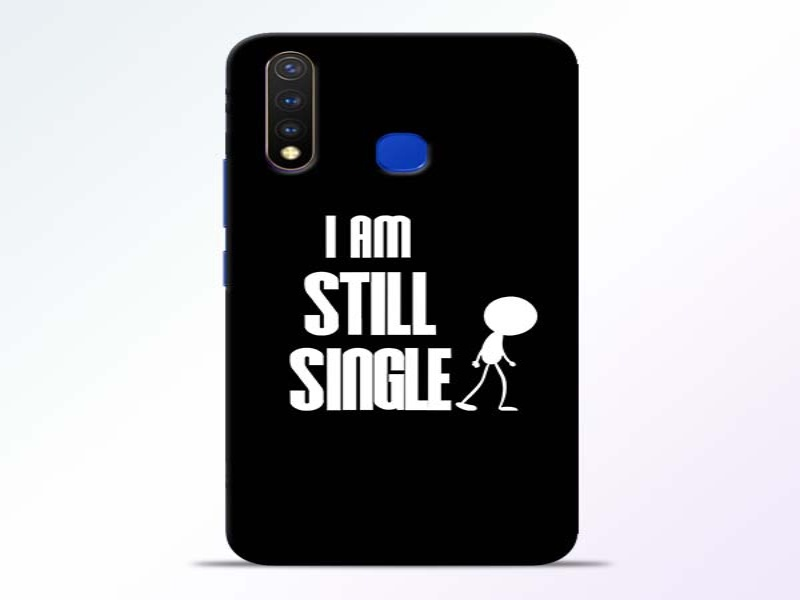mobile: (190, 26, 604, 569)
